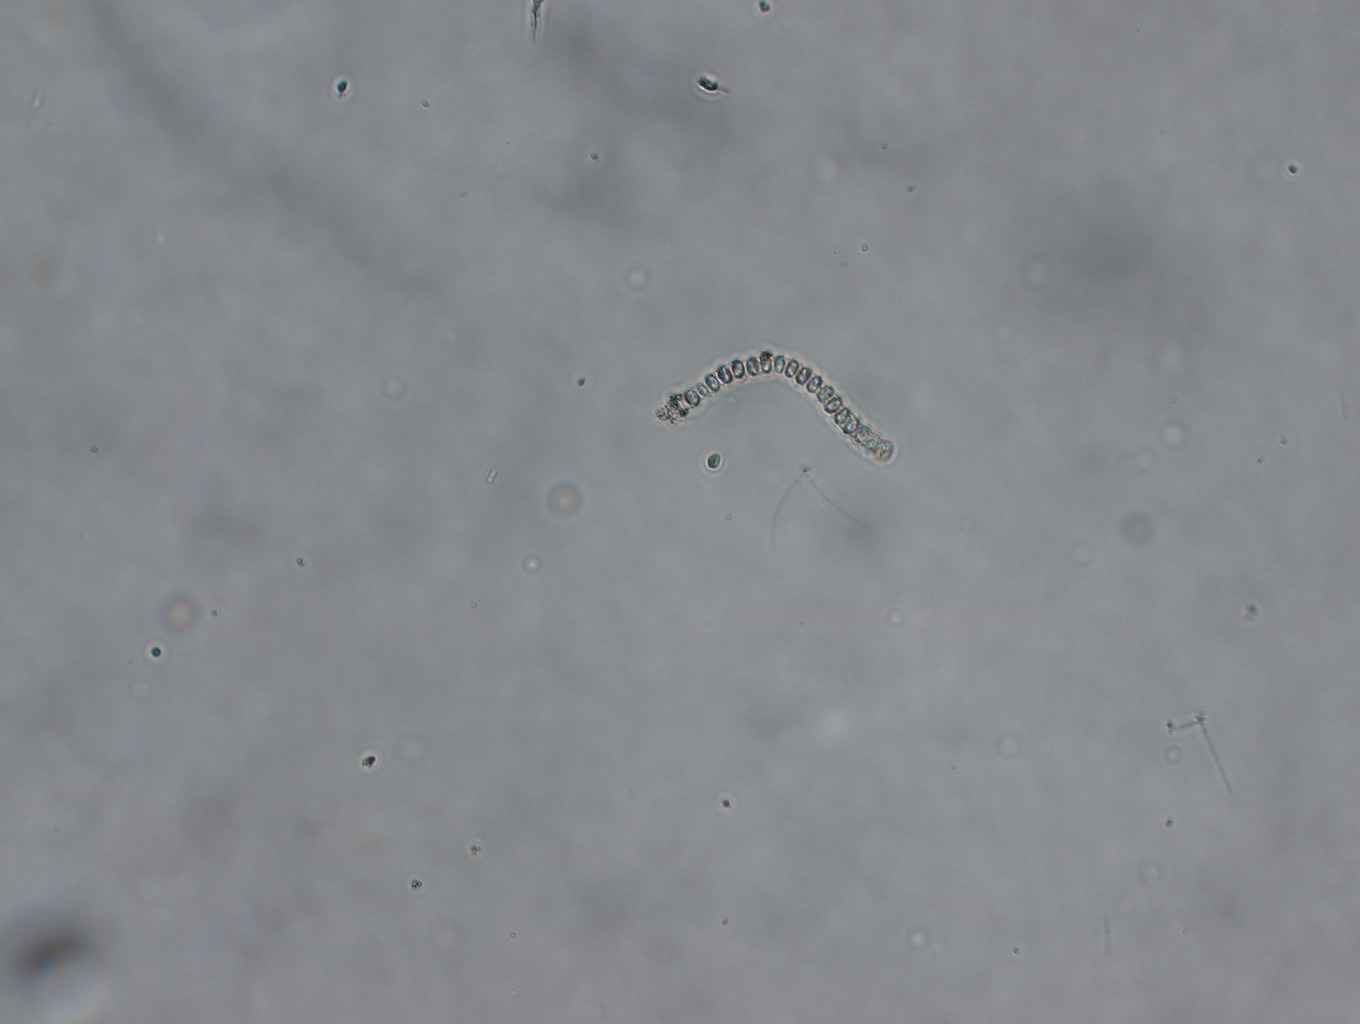skeletonema: (644, 335, 898, 479)
